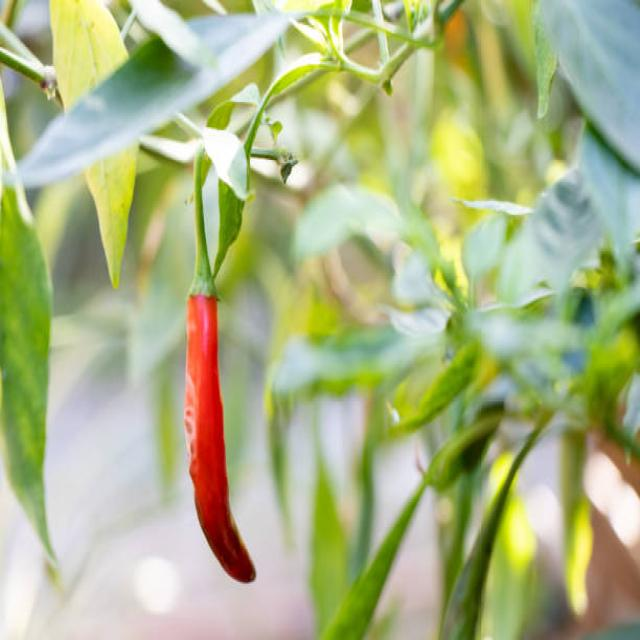Ripe: (184, 296, 256, 582)
